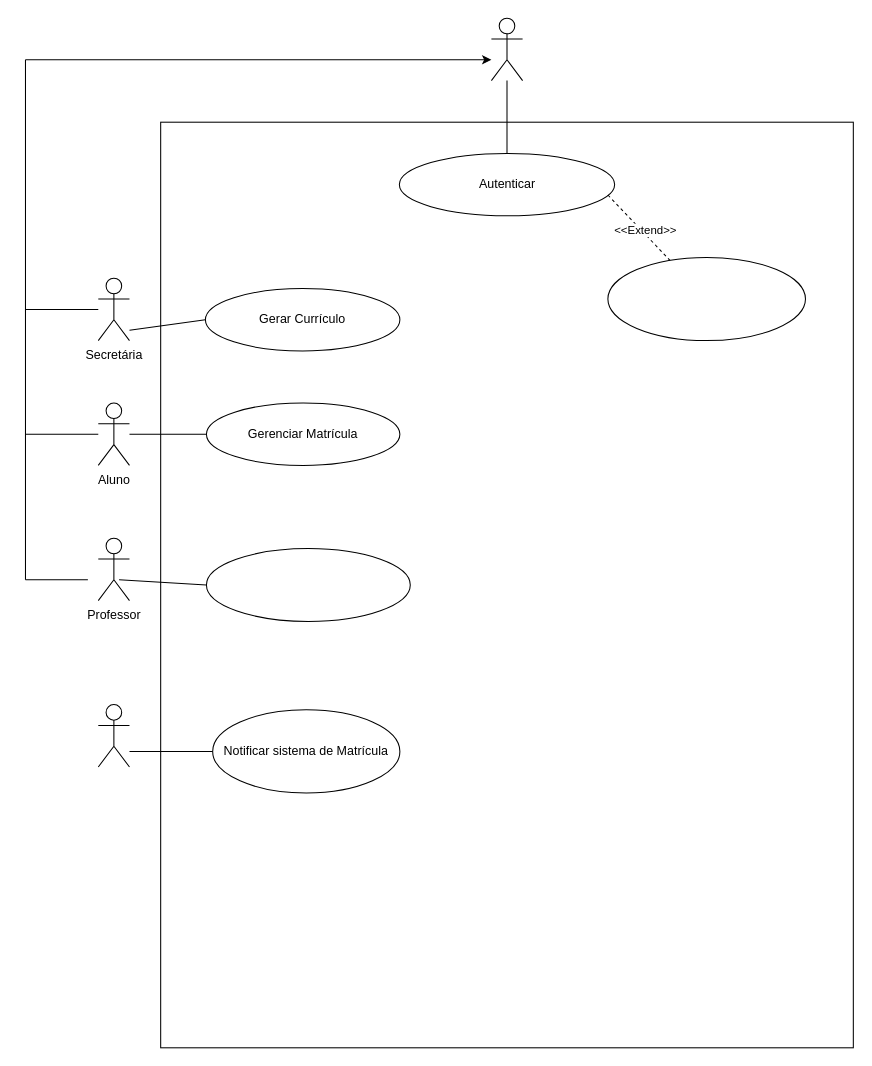
Some shapes in this 872 by 1066 pixel diagram are drawn without their labels. The shapes that lost their labels are listed below. From the top down, each one's box as (x1, y1, x2, y2) in pixels, then its label:
(490, 17, 523, 81): Usuário
(607, 256, 805, 341): Recuperar Senha
(205, 548, 410, 621): Consultar Alunos
(97, 704, 129, 767): Sistema de Cobrança
